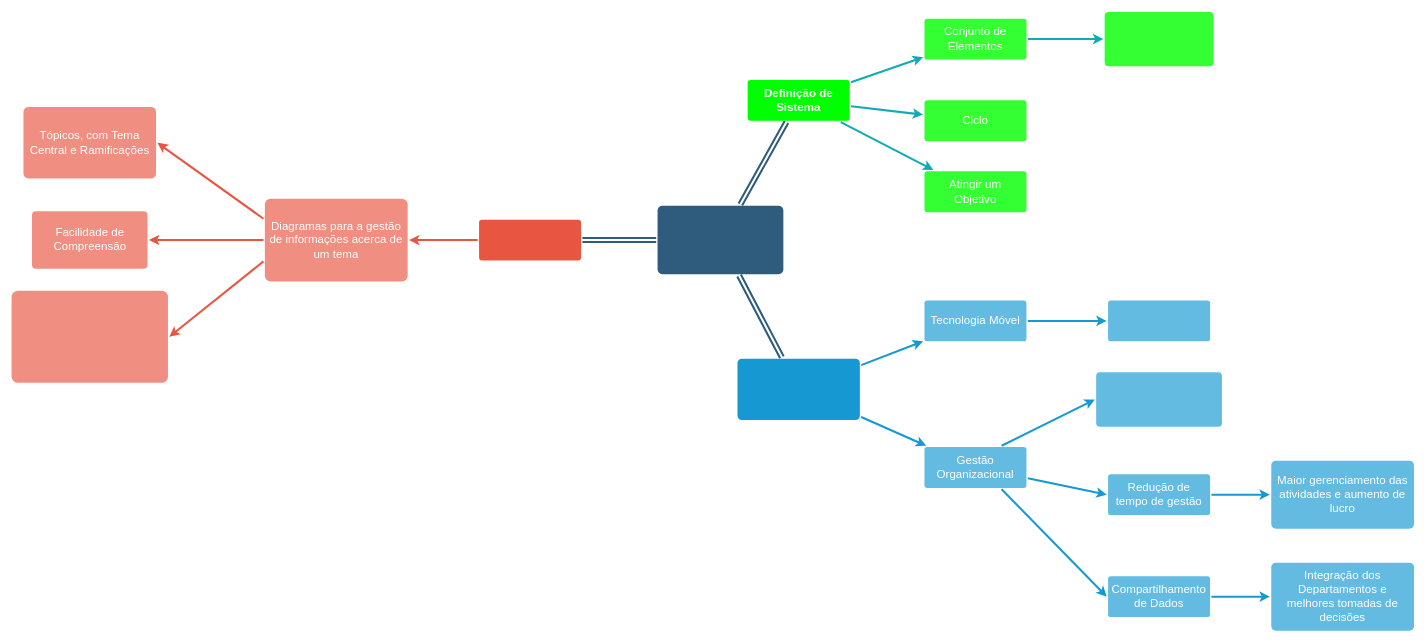
The diagram is 1426 pixels wide and 642 high, and some of its shapes have lost their labels. Here are the shapes that lost their labels. From the top down, the box of each, then its label:
(1104, 12, 1213, 66): Entrada, Processamento, Saída e Feedback
(479, 219, 581, 260): Mapa Mental
(657, 205, 783, 274): Administração de Sistemas da Informação
(11, 290, 168, 382): Oferece uma visão ampla, facilitando nos estudos e identificação de problemas
(1108, 300, 1210, 341): Mobilidade e Velocidade
(737, 358, 860, 420): Sistemas de Informação Gerencial (SIG)
(1096, 372, 1222, 426): Menores distâncias entre funcionários e gerentes
